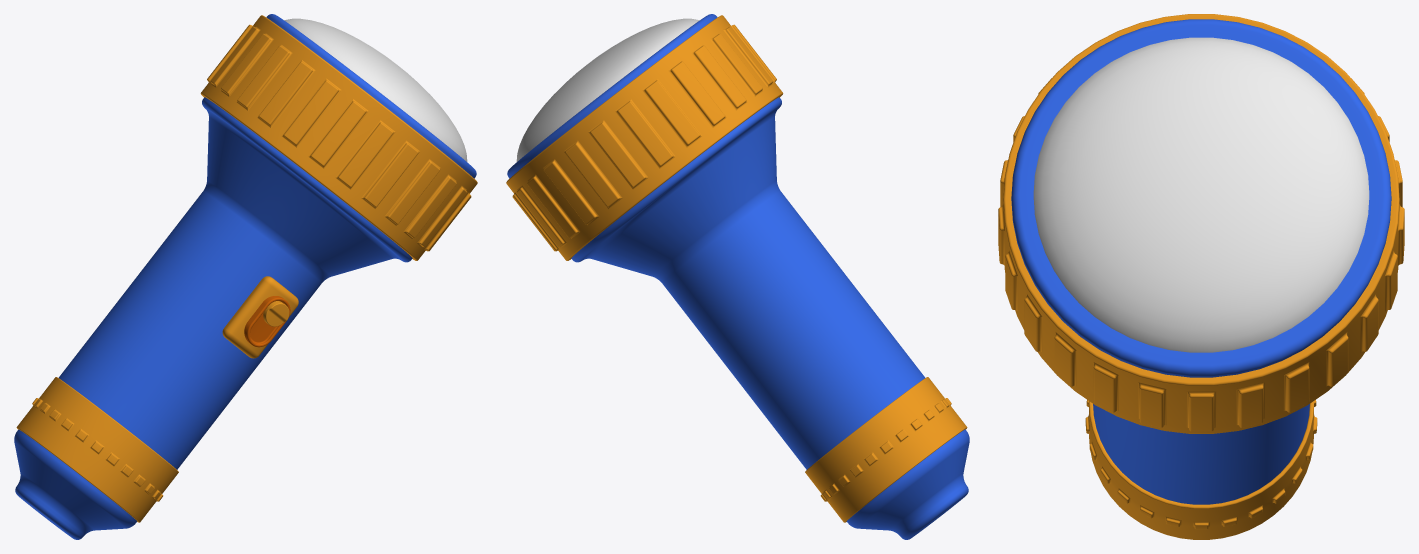
Rendered from Flashlight.fbx.
The picture shows the model from 3 angles, left to right: view 1: azimuth 30°, elevation 25°; view 2: azimuth 150°, elevation 25°; view 3: azimuth 270°, elevation 25°; orthographic projection. The views are drawn at different scales.
Parts seen in each view (by area): view 1: Cylinder, Cylinder.003, Cylinder.004, Sphere, Cylinder.002, Cube; view 2: Cylinder, Cylinder.003, Cylinder.004, Sphere; view 3: Sphere, Cylinder, Cylinder.003, Cylinder.004.
Boxes of the visible parts, box(x1,y1,x2,y2) form: Cylinder: box(14, 14, 476, 539); Cylinder.003: box(200, 15, 477, 260); Cylinder.004: box(16, 377, 178, 522); Sphere: box(284, 18, 467, 161); Cylinder.002: box(222, 276, 298, 358); Cube: box(244, 296, 290, 347); Cylinder: box(507, 14, 969, 539); Cylinder.003: box(506, 15, 783, 260); Cylinder.004: box(805, 377, 967, 522); Sphere: box(516, 18, 699, 161); Sphere: box(1033, 37, 1369, 352); Cylinder: box(1011, 19, 1391, 504); Cylinder.003: box(998, 14, 1404, 433); Cylinder.004: box(1085, 400, 1317, 539).
Bounding box in the file's own units: 202 × 202 × 114.
